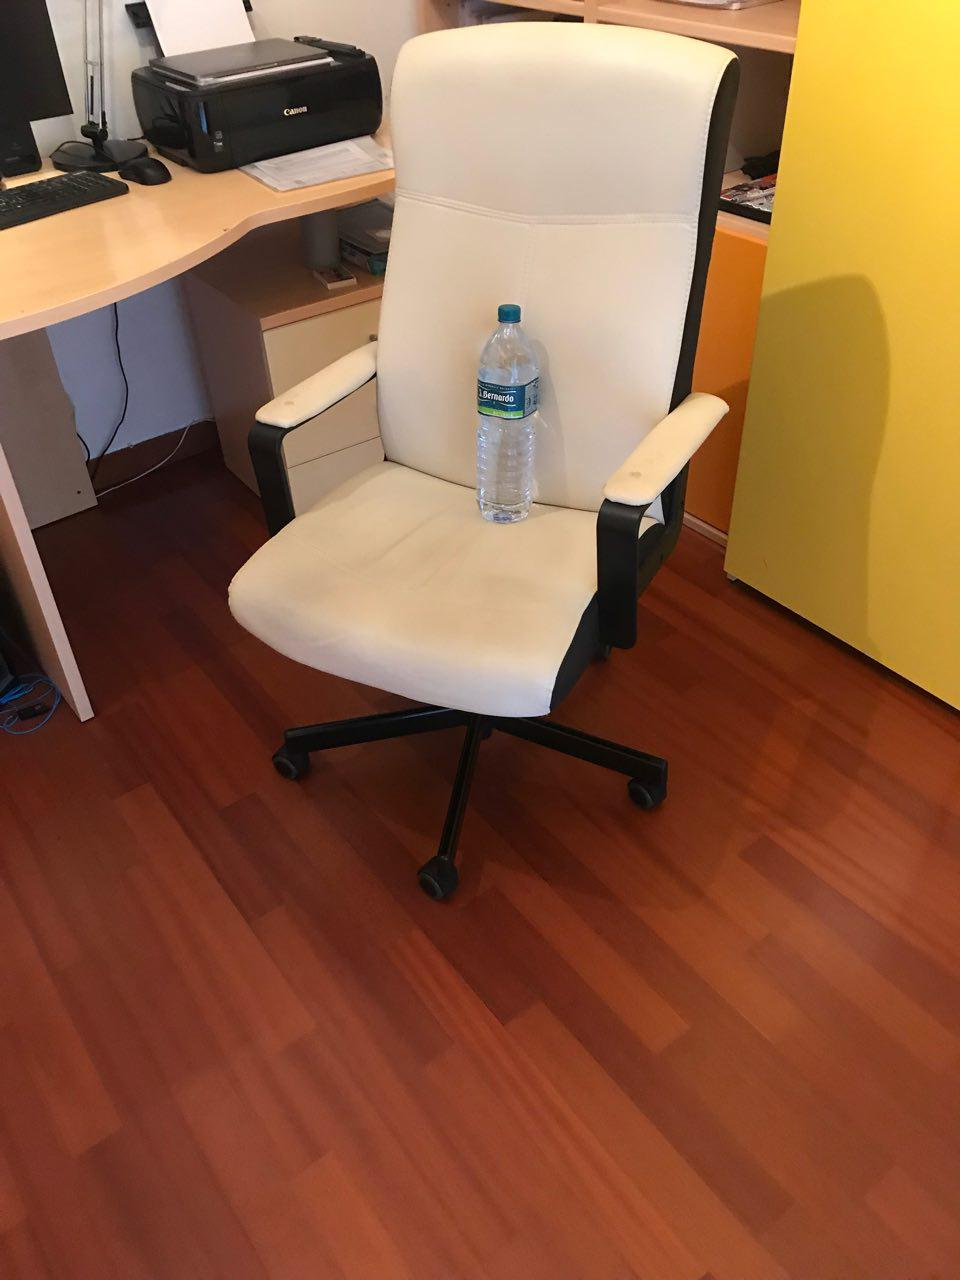san_bernardo: (477, 304, 541, 525)
